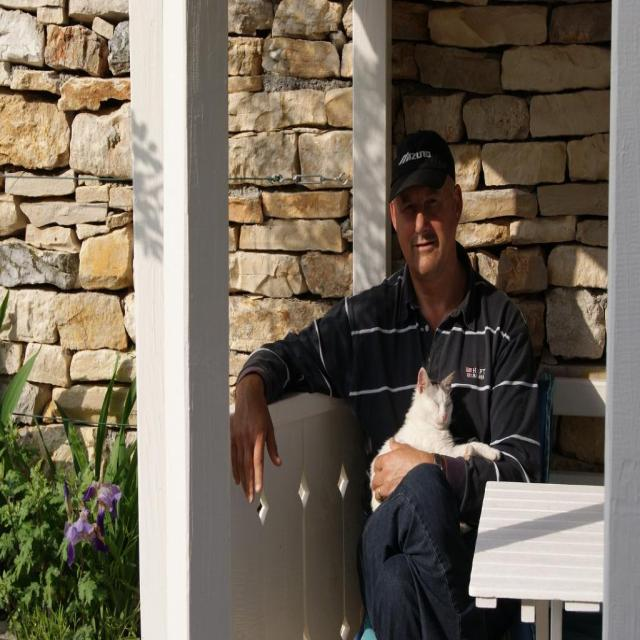Cat: (366, 368, 504, 511)
